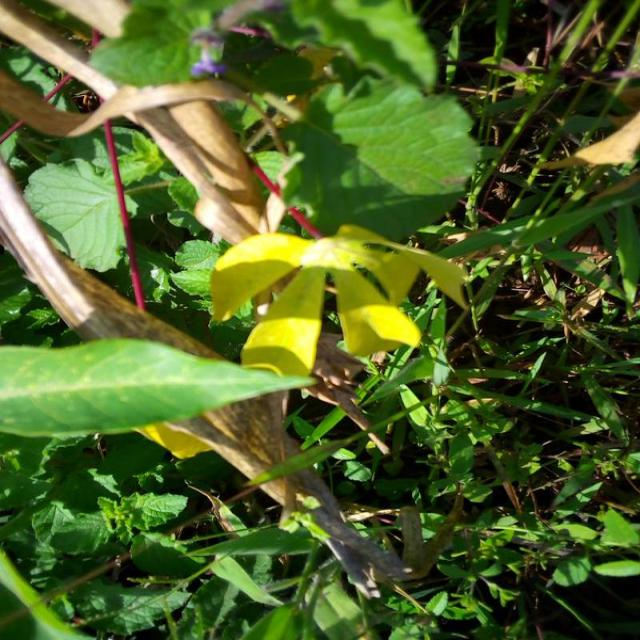cassava leaf: (209, 222, 469, 377), (273, 75, 483, 241), (0, 335, 318, 439)
